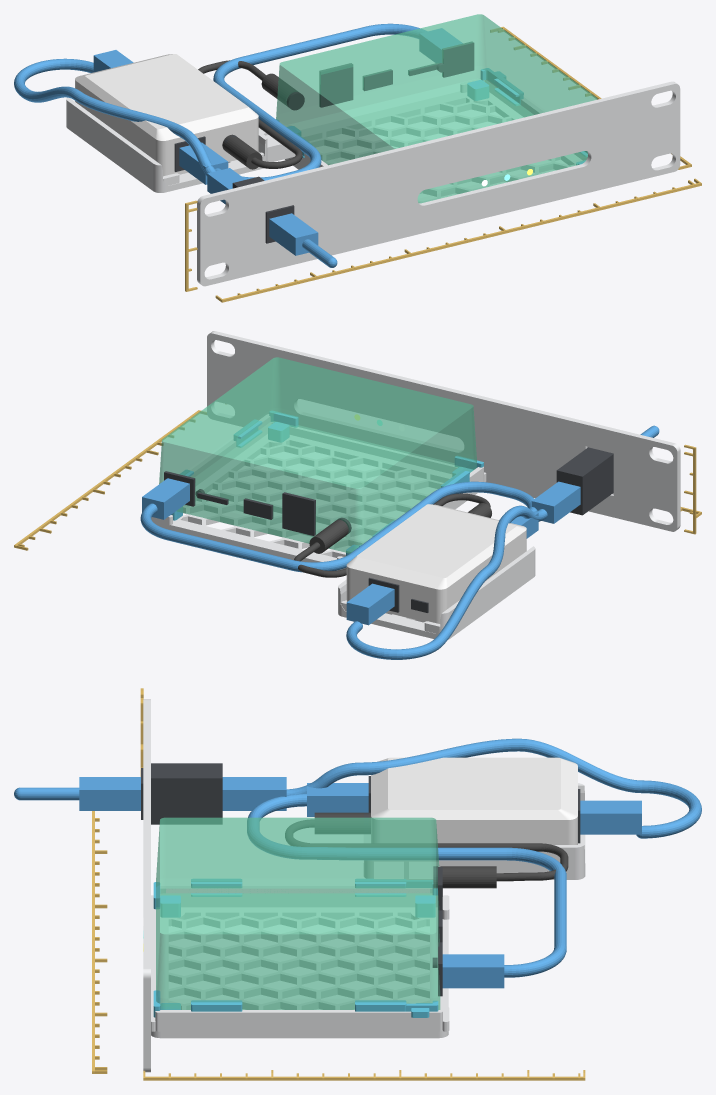
Rendered from home-assistant-green-rack-front_ethernet_left-no_shutter.glb.
3 renders of one model, top to bottom at view 1: azimuth 30°, elevation 25°; view 2: azimuth 150°, elevation 25°; view 3: azimuth 270°, elevation 25°, orthographic. The views are drawn at different scales.
Visible parts, largest first — view 1: White rack mount, Home Assistant Green, TP-Link TL-PD30G-M2, Green tray — standard, Front keystone → TP-Link PoE jumper, Internal Ethernet cable, 10 mm dimension rulers, Home Assistant Green connector faces, TP-Link cradle side walls, DC cable, Green retention — segmented rails + rear latch, TP-Link cradle floor (+2 smaller); view 2: Home Assistant Green, White rack mount, Green tray — standard, TP-Link TL-PD30G-M2, Front keystone → TP-Link PoE jumper, Internal Ethernet cable, Front keystone coupler, Home Assistant Green connector faces, TP-Link cradle side walls, Green retention — segmented rails + rear latch, 10 mm dimension rulers, DC cable (+2 smaller); view 3: Home Assistant Green, Green tray — standard, TP-Link TL-PD30G-M2, Front keystone → TP-Link PoE jumper, Internal Ethernet cable, DC cable, Green retention — segmented rails + rear latch, Front keystone coupler, 10 mm dimension rulers, White rack mount, TP-Link cradle side walls, Home Assistant Green connector faces.
Part boxes in pixels (x1,y1,x2,y2): White rack mount: (197, 81, 680, 286); Home Assistant Green: (276, 14, 597, 203); TP-Link TL-PD30G-M2: (75, 54, 258, 176); Green tray — standard: (285, 78, 587, 202); Front keystone → TP-Link PoE jumper: (14, 50, 337, 267); Internal Ethernet cable: (179, 23, 462, 184); 10 mm dimension rulers: (185, 26, 701, 302); Home Assistant Green connector faces: (286, 42, 474, 110); TP-Link cradle side walls: (66, 97, 267, 187); DC cable: (198, 60, 302, 169); Green retention — segmented rails + rear latch: (276, 68, 587, 164); TP-Link cradle floor: (66, 122, 267, 192); Home Assistant Green: (159, 357, 476, 553); White rack mount: (207, 331, 680, 531); Green tray — standard: (151, 414, 486, 570); TP-Link TL-PD30G-M2: (346, 504, 526, 623); Front keystone → TP-Link PoE jumper: (346, 425, 659, 659); Internal Ethernet cable: (140, 478, 538, 572); Front keystone coupler: (556, 447, 613, 515); Home Assistant Green connector faces: (164, 471, 351, 535); TP-Link cradle side walls: (338, 546, 535, 634); Green retention — segmented rails + rear latch: (171, 411, 483, 555); 10 mm dimension rulers: (14, 410, 701, 550); DC cable: (294, 493, 491, 577); Home Assistant Green: (156, 817, 440, 1009); Green tray — standard: (151, 886, 449, 1038); TP-Link TL-PD30G-M2: (371, 757, 577, 844); Front keystone → TP-Link PoE jumper: (14, 738, 701, 838); Internal Ethernet cable: (247, 783, 566, 988); DC cable: (285, 812, 568, 888); Green retention — segmented rails + rear latch: (153, 879, 438, 1017); Front keystone coupler: (141, 763, 222, 824); 10 mm dimension rulers: (92, 688, 585, 1080); White rack mount: (143, 699, 438, 1072); TP-Link cradle side walls: (364, 783, 585, 873); Home Assistant Green connector faces: (432, 866, 442, 996).
Size of what is drawn, in the model's own units: 268 by 44.45 by 269.
